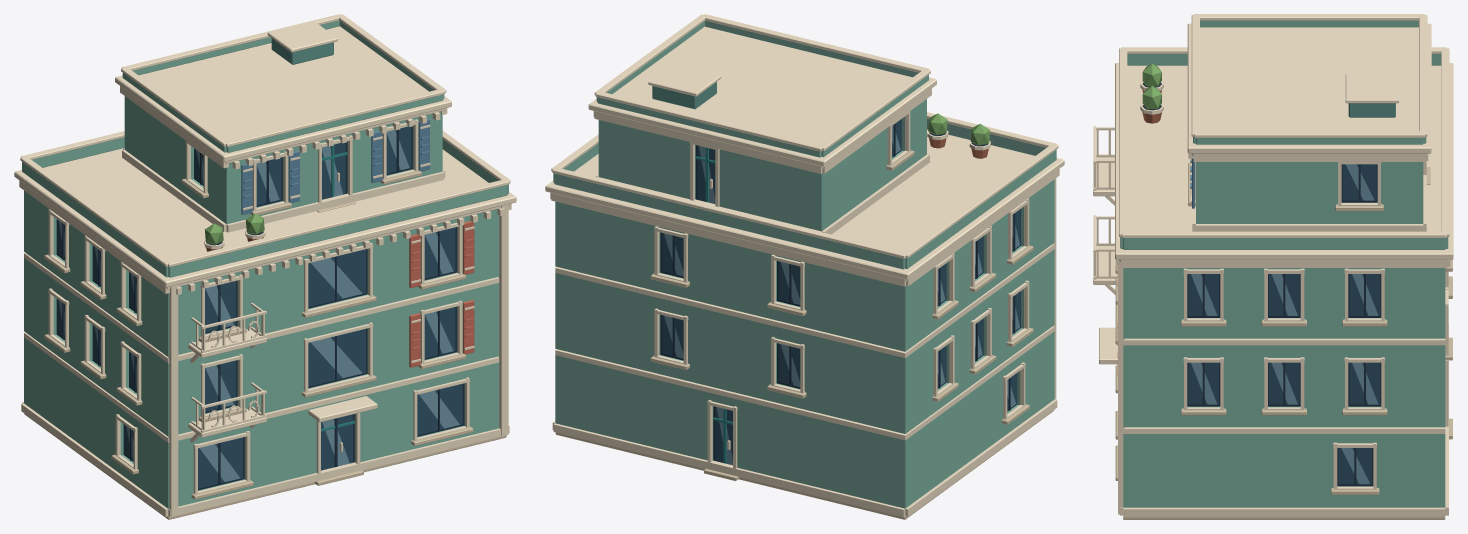
Rendered from setback_apartments.glb.
The picture shows the model from 3 angles, left to right: view 1: azimuth 30°, elevation 25°; view 2: azimuth 150°, elevation 25°; view 3: azimuth 270°, elevation 25°; orthographic projection. The views are drawn at different scales.
Visible parts, largest first — view 1: SetbackApartments_StaticMesh; view 2: SetbackApartments_StaticMesh; view 3: SetbackApartments_StaticMesh.
Part boxes in pixels (x1,y1,x2,y2): SetbackApartments_StaticMesh: (14,14,516,519); SetbackApartments_StaticMesh: (545,14,1064,519); SetbackApartments_StaticMesh: (1093,14,1453,519).
Size of the model in its own units: 14.32 by 13.38 by 11.41.
